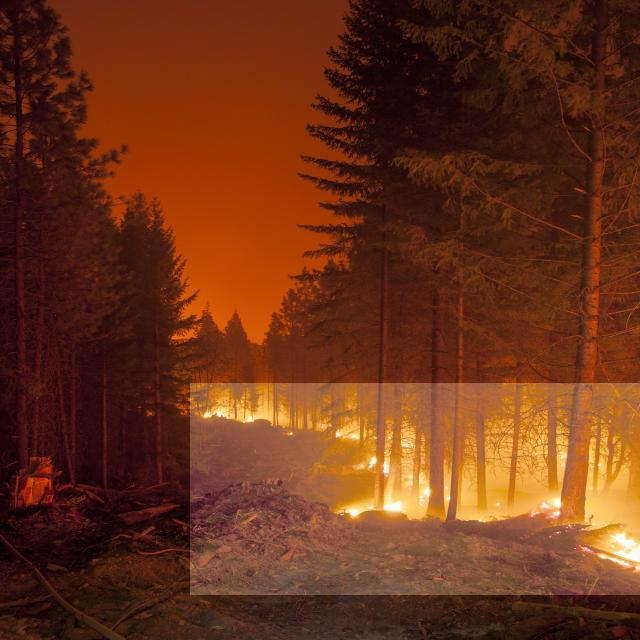Fire: (190, 383, 640, 595)
